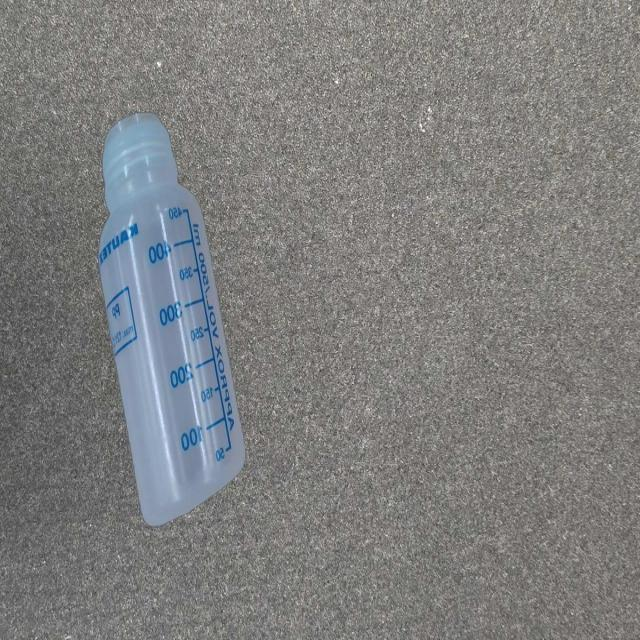bottle: (96, 108, 247, 532)
